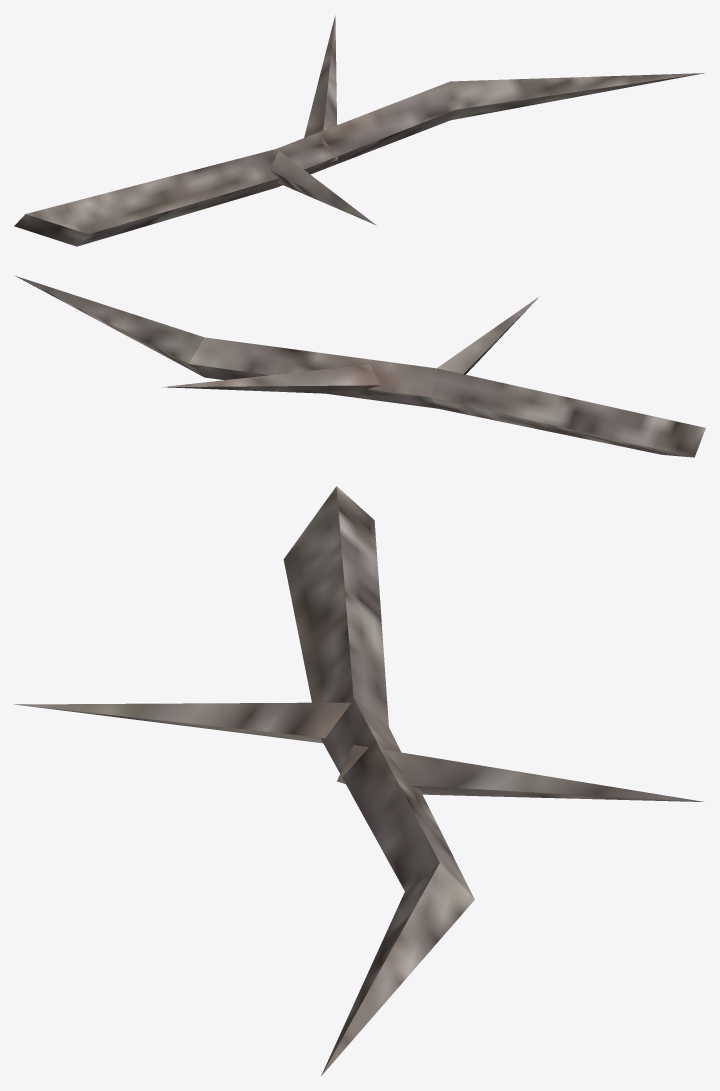
Rendered from branch.glb.
The picture shows the model from 3 angles, top to bottom: view 1: azimuth 30°, elevation 25°; view 2: azimuth 150°, elevation 25°; view 3: azimuth 270°, elevation 25°; orthographic projection. The views are drawn at different scales.
Visible parts, largest first — view 1: branch; view 2: branch; view 3: branch.
Part boxes in pixels (left/top/right/bottom): branch: left=14, top=15, right=704, bottom=246; branch: left=15, top=276, right=705, bottom=457; branch: left=14, top=486, right=703, bottom=1075.
Bounding box in the file's own units: 0.7647 × 0.0629 × 0.4017.
1 material, 1 textured.
